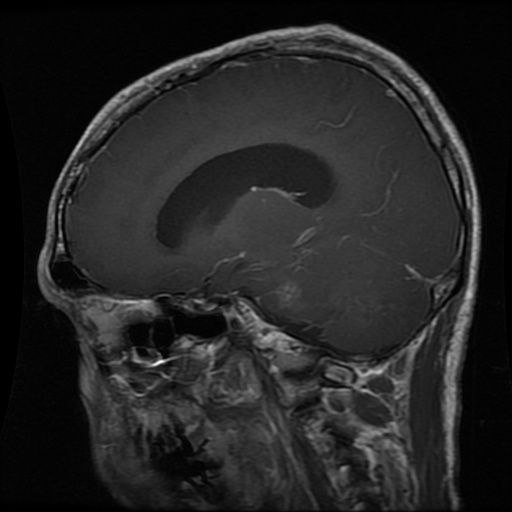glioma: (274, 276, 302, 308)
